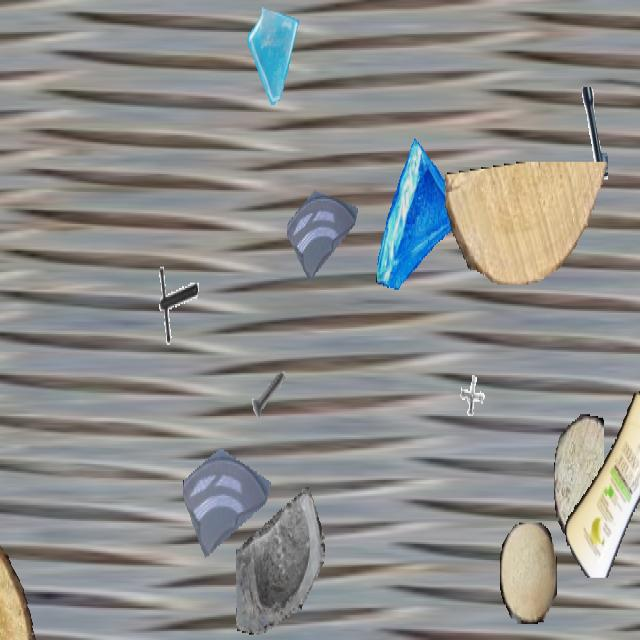glass: (374, 137, 468, 304), (236, 482, 324, 638), (183, 416, 271, 572), (287, 162, 359, 290), (246, 2, 304, 105)
metal: (550, 87, 608, 190), (150, 261, 198, 347), (248, 357, 290, 432), (454, 361, 494, 432)
plastic: (562, 384, 640, 576)
wood: (445, 162, 611, 282), (0, 471, 39, 638), (554, 414, 604, 542), (500, 523, 556, 622)
